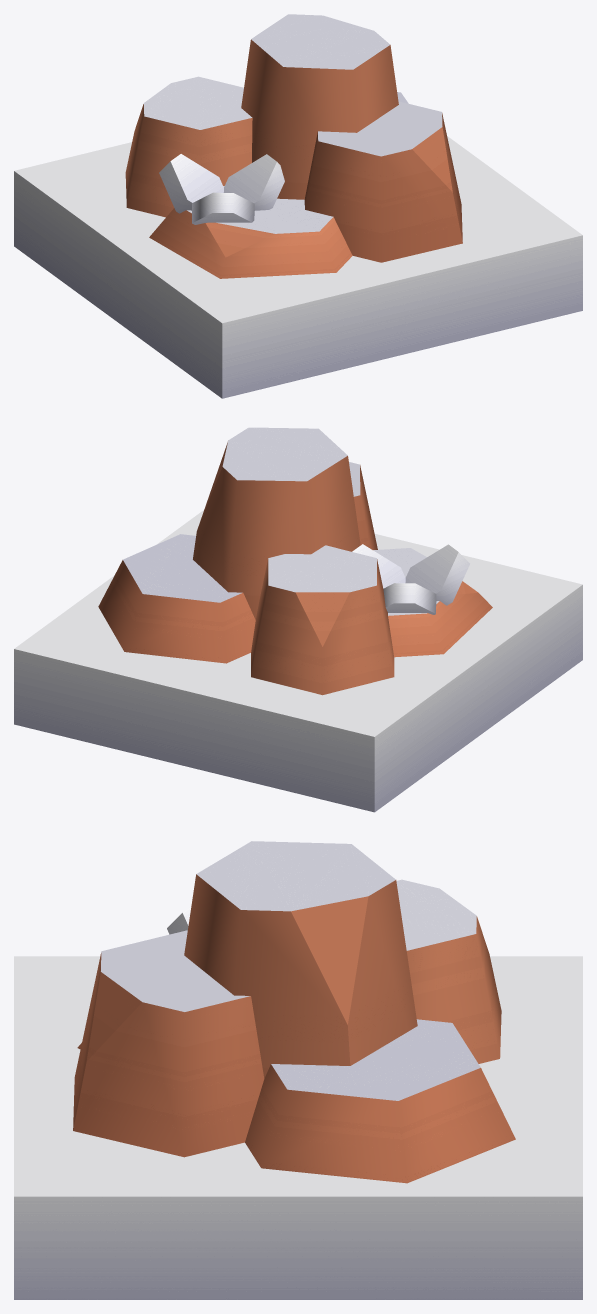
Rendered from tower-defense-kit--snow-tile-rock.glb.
The picture shows the model from 3 angles, top to bottom: view 1: azimuth 30°, elevation 25°; view 2: azimuth 150°, elevation 25°; view 3: azimuth 270°, elevation 25°; orthographic projection. The views are drawn at different scales.
Visible parts, largest first — view 1: snow-tile-rock; view 2: snow-tile-rock; view 3: snow-tile-rock.
Part boxes in pixels (x1,y1,x2,y2): snow-tile-rock: [14, 14, 582, 398]; snow-tile-rock: [14, 427, 582, 812]; snow-tile-rock: [14, 841, 582, 1299].
Bounding box in the file's own units: 1 × 0.6145 × 1.
Materials: 1 (1 with a texture image).
